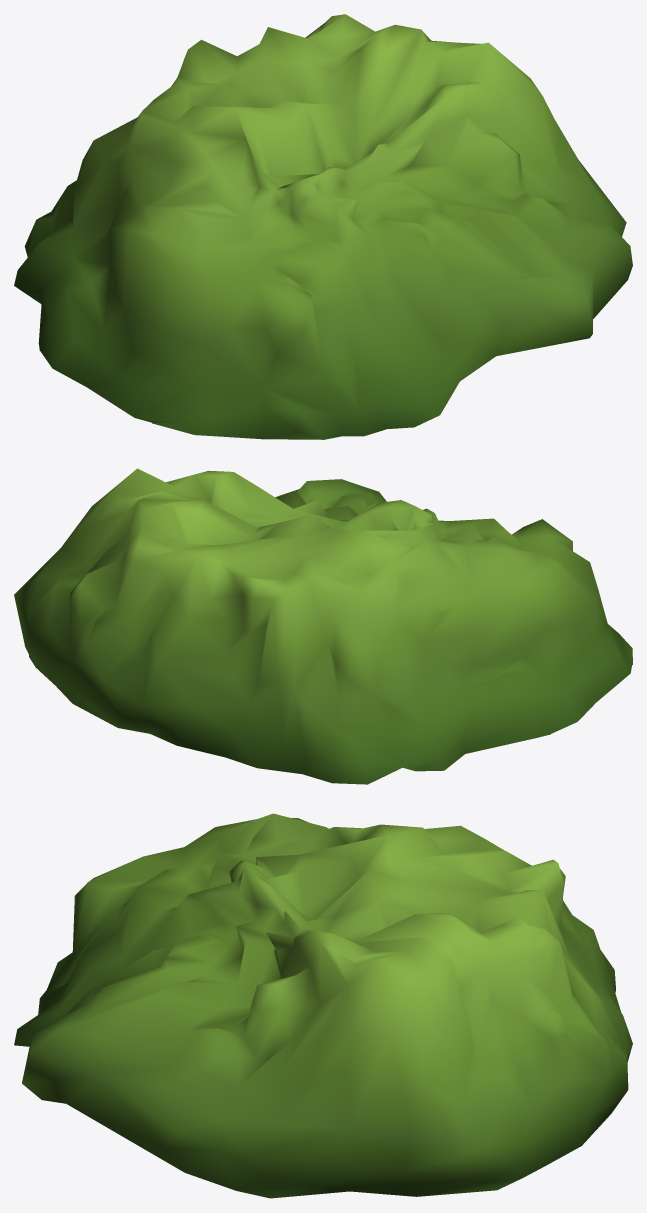
File: Mountain_5.fbx
The picture shows the model from 3 angles, top to bottom: view 1: azimuth 30°, elevation 25°; view 2: azimuth 150°, elevation 25°; view 3: azimuth 270°, elevation 25°; orthographic projection. The views are drawn at different scales.
Visible parts, largest first — view 1: Mountain_5; view 2: Mountain_5; view 3: Mountain_5.
Boxes of the visible parts, x1,y1,x2,y2 form: Mountain_5: (14, 14, 632, 439); Mountain_5: (14, 468, 632, 784); Mountain_5: (14, 813, 632, 1198).
Bounding box in the file's own units: 1415 × 498 × 1268.
